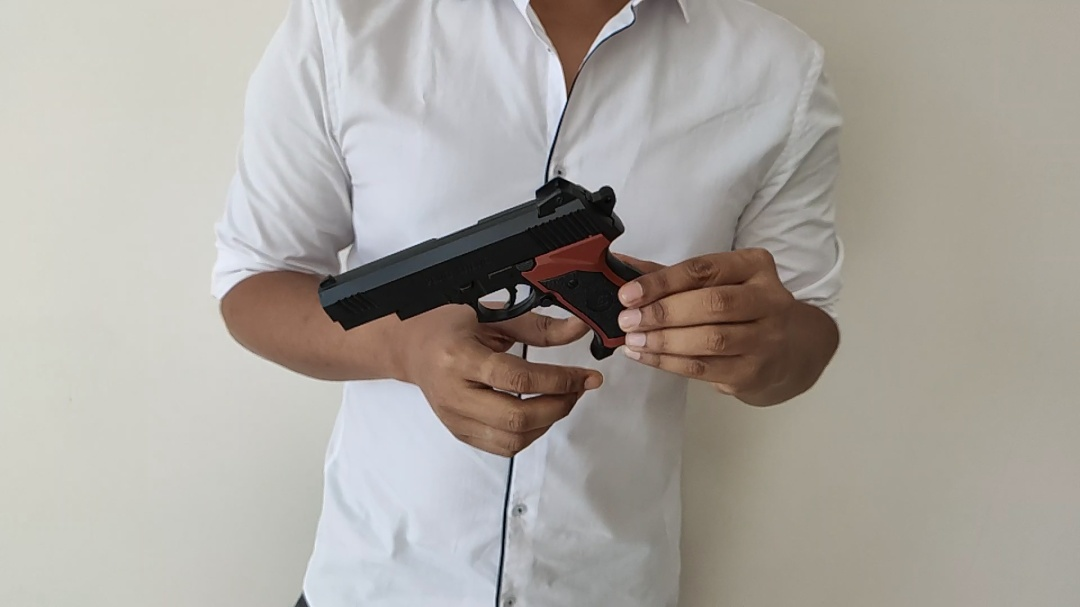gun: (404, 55, 671, 440)
